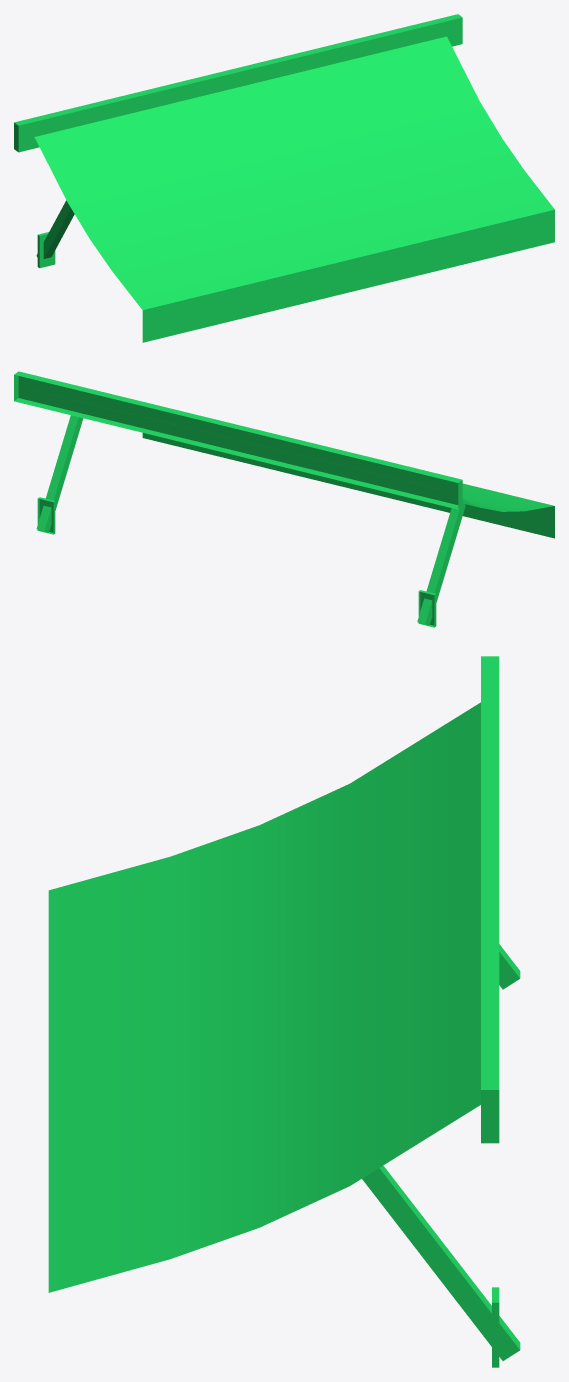
File: SM_wall_tent.fbx
The picture shows the model from 3 angles, top to bottom: view 1: azimuth 30°, elevation 25°; view 2: azimuth 150°, elevation 25°; view 3: azimuth 270°, elevation 25°; orthographic projection. The views are drawn at different scales.
Visible parts, largest first — view 1: side_tent_low.001; view 2: side_tent_low.001; view 3: side_tent_low.001.
Part boxes in pixels (<box>): side_tent_low.001: <box>14,14,554,342</box>; side_tent_low.001: <box>14,371,554,627</box>; side_tent_low.001: <box>48,656,520,1367</box>.
Bounding box in the file's own units: 280 × 90.56 × 129.
